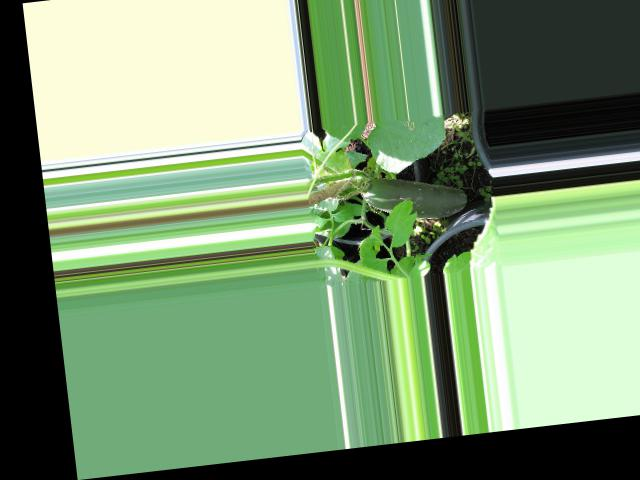cucumber: (360, 167, 468, 226)
